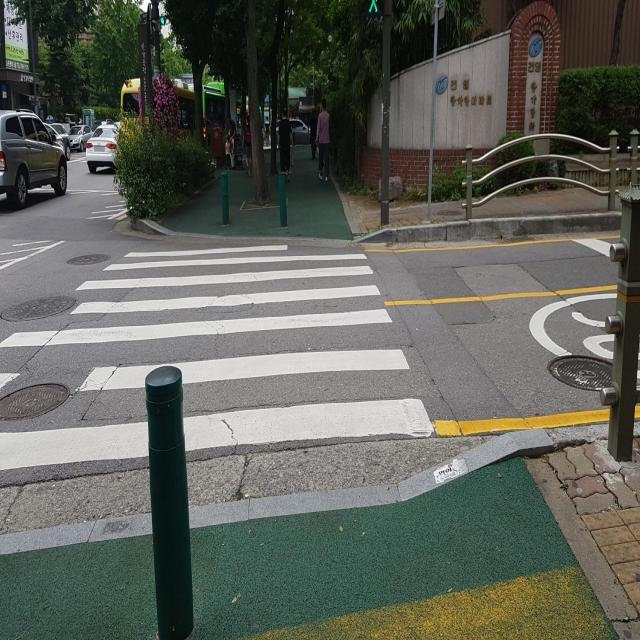횡단보도: (1, 239, 436, 476)
